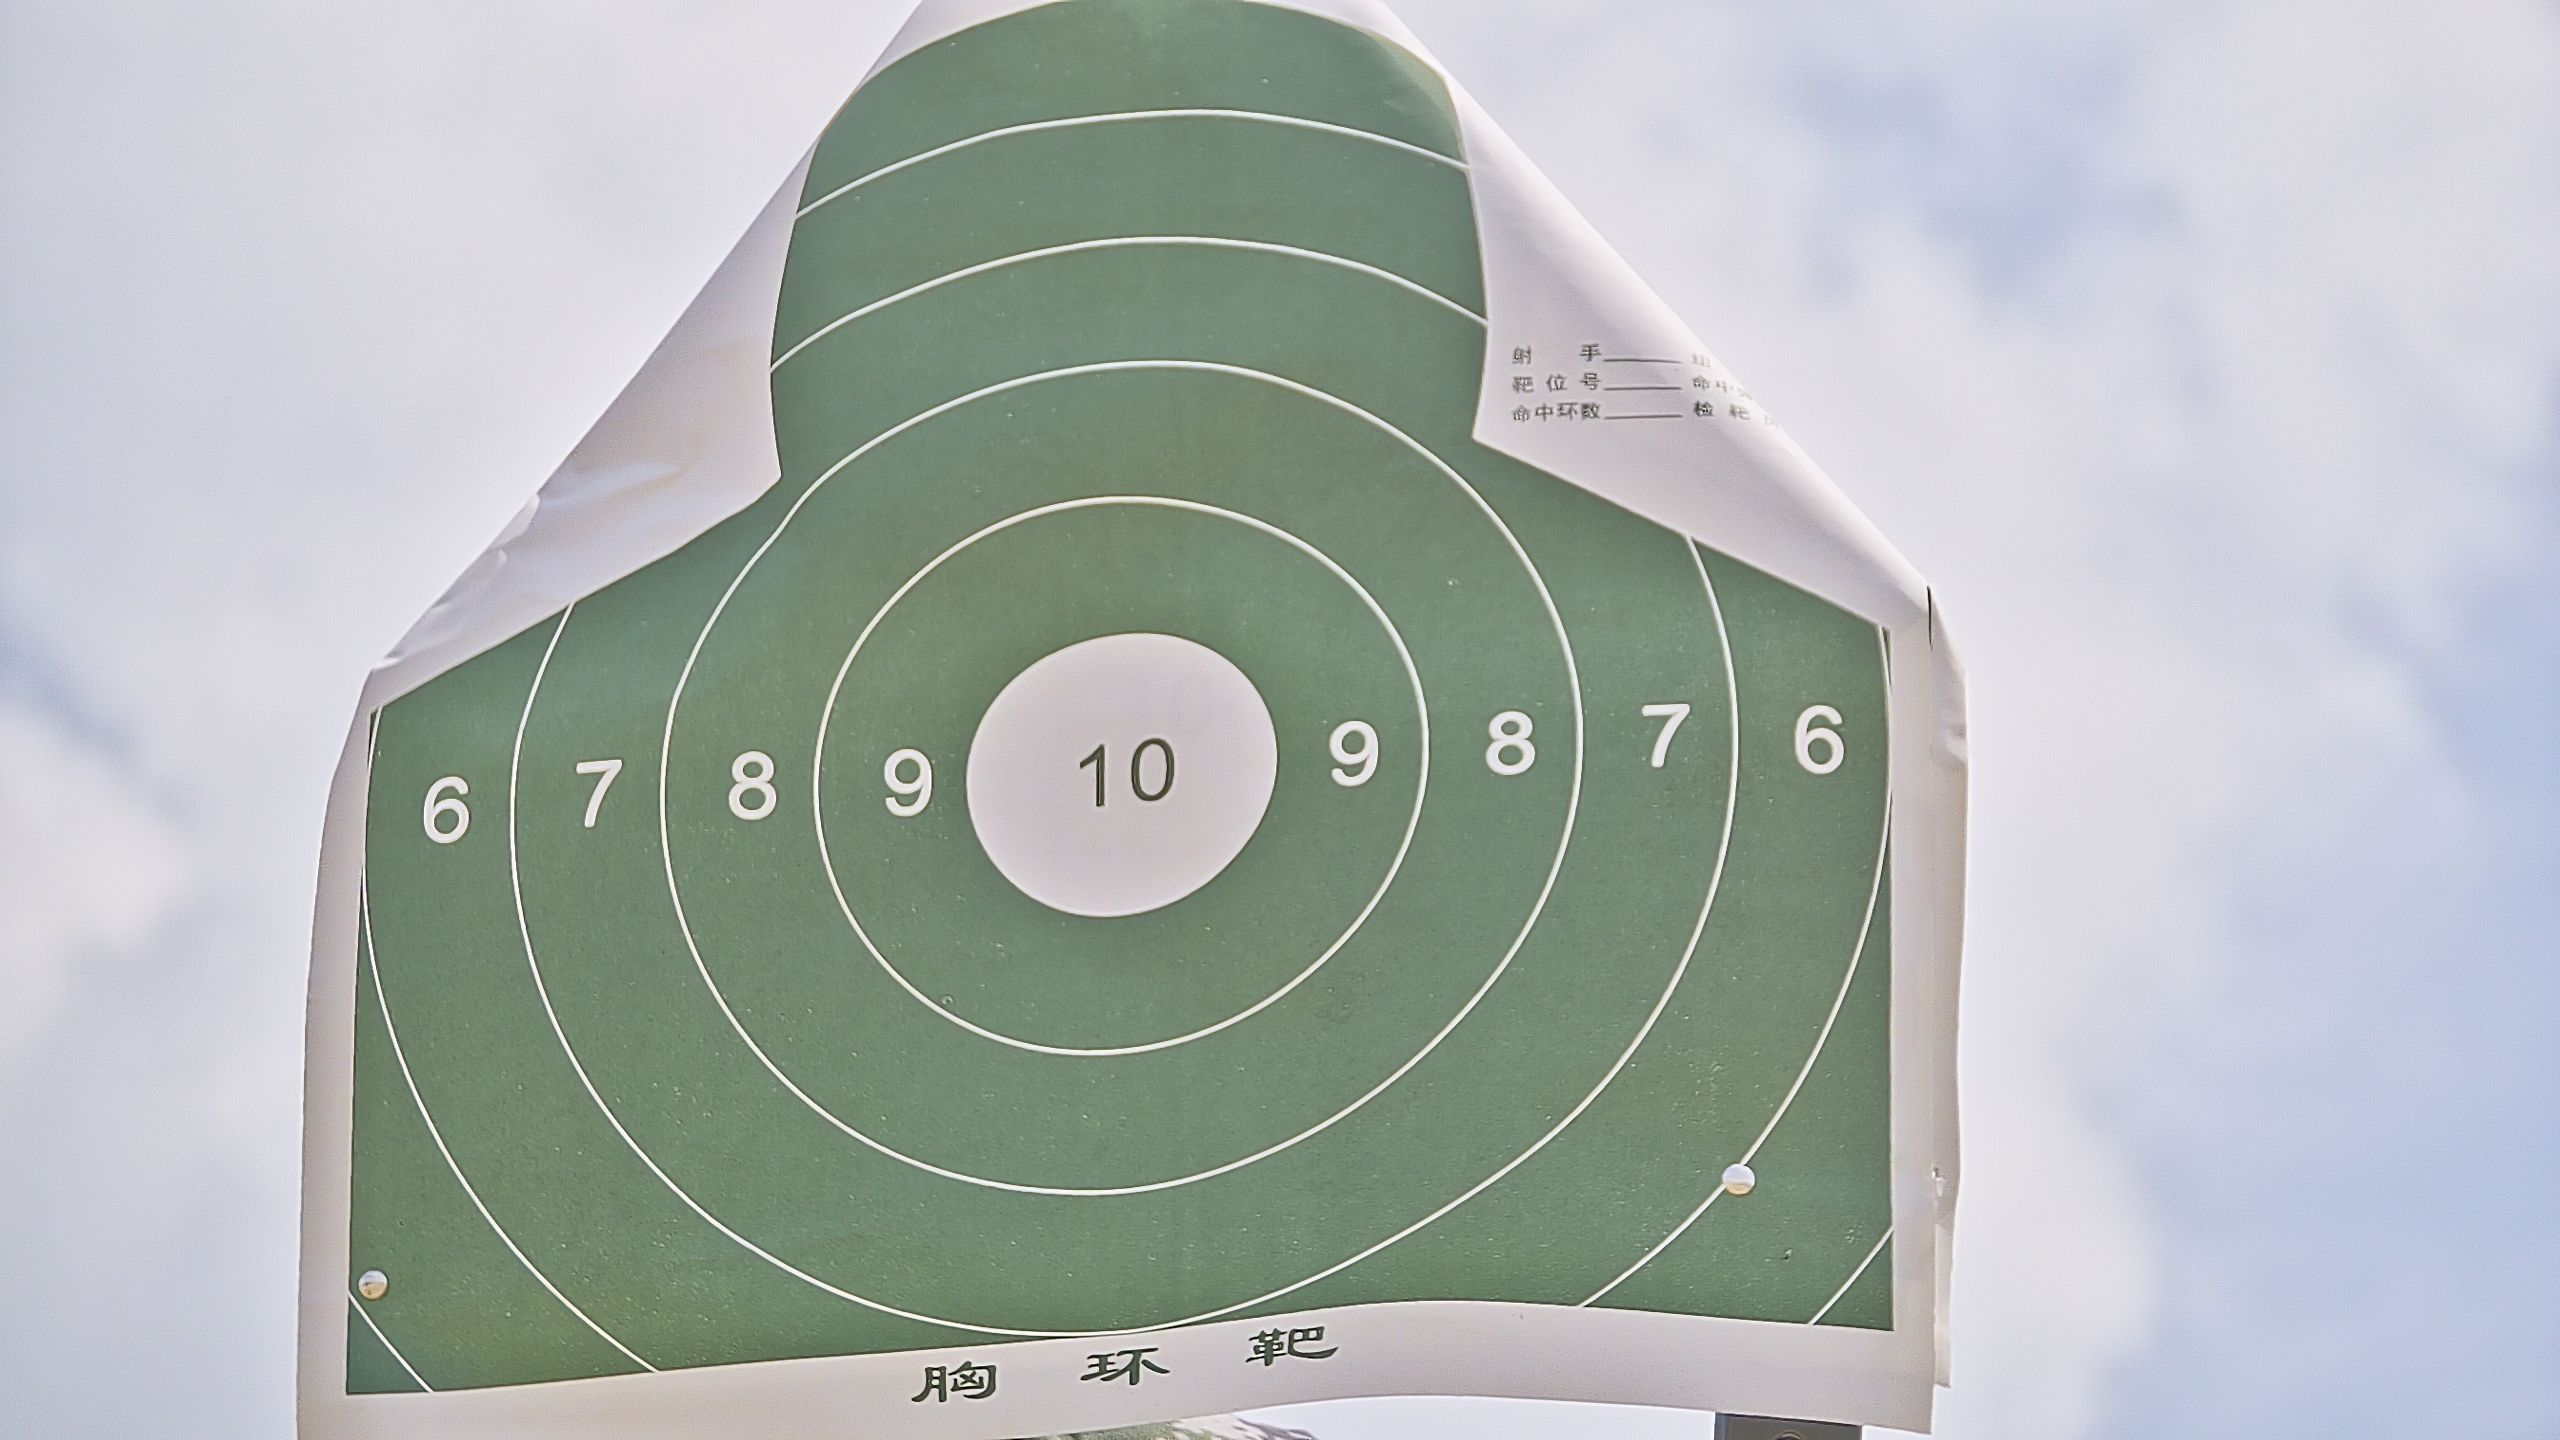kernel: (1116, 774, 1122, 775)
target: (353, 2, 1890, 1387)
ten: (965, 629, 1282, 921)
